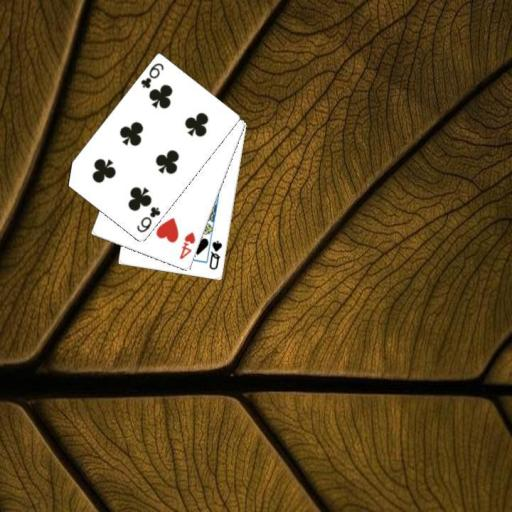4H: (176, 229, 197, 261)
6C: (137, 60, 166, 90), (134, 204, 162, 235)
QS: (206, 238, 224, 272)
